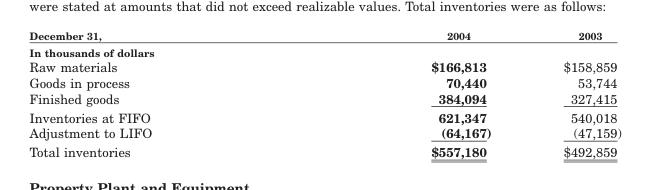table: (28, 28, 620, 159)
table column: (28, 28, 290, 159), (290, 28, 526, 159), (526, 28, 620, 159)
table column header: (28, 28, 620, 43)
table projected row header: (28, 43, 620, 58)
table row: (28, 141, 620, 159), (28, 90, 620, 107), (28, 107, 620, 124), (28, 124, 620, 141), (28, 58, 620, 74), (28, 74, 620, 90), (28, 28, 620, 43), (28, 43, 620, 58)
